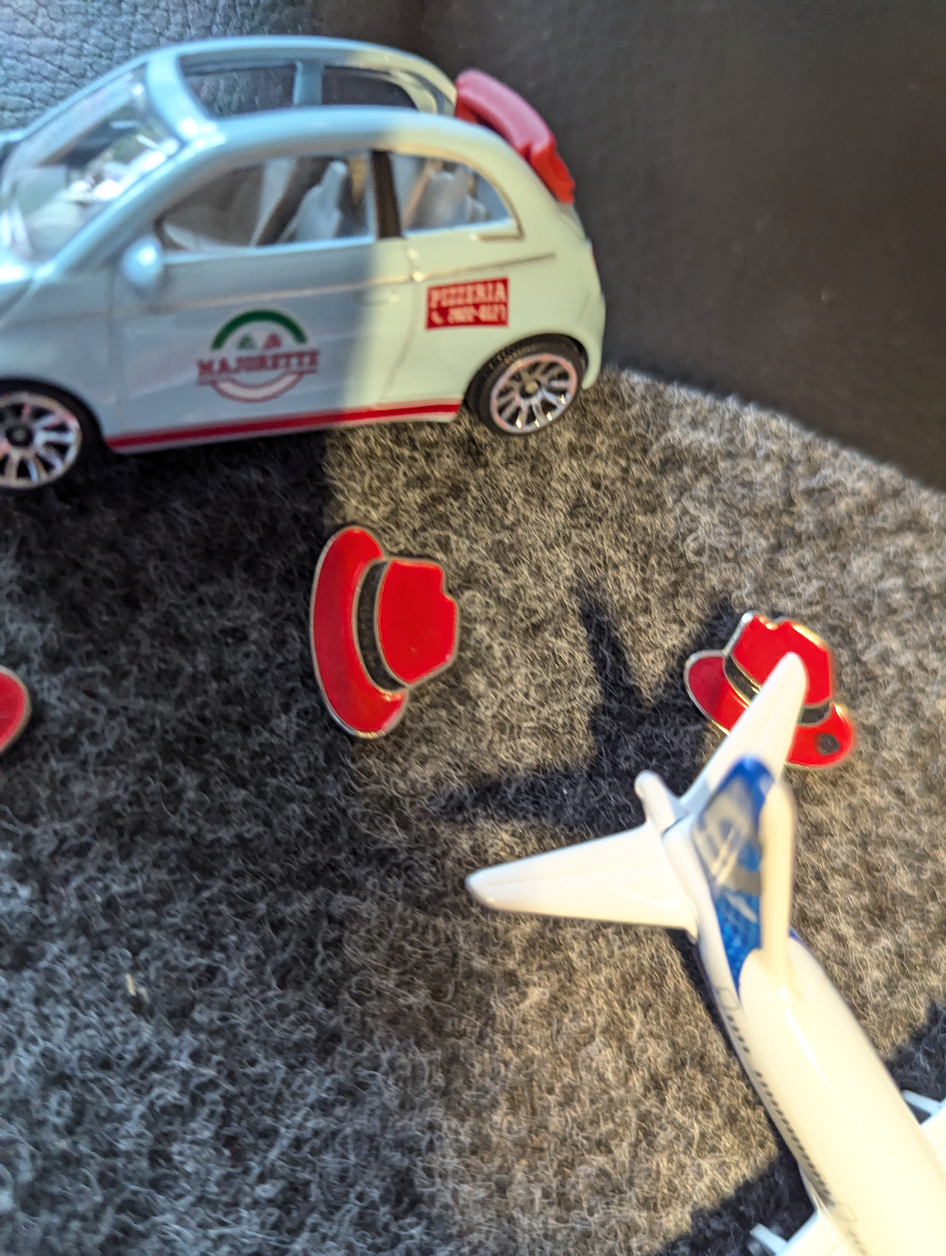Car: (0, 8, 666, 509)
Red-Hat: (272, 502, 489, 766), (670, 586, 881, 782)
Scratch: (790, 726, 866, 772)
